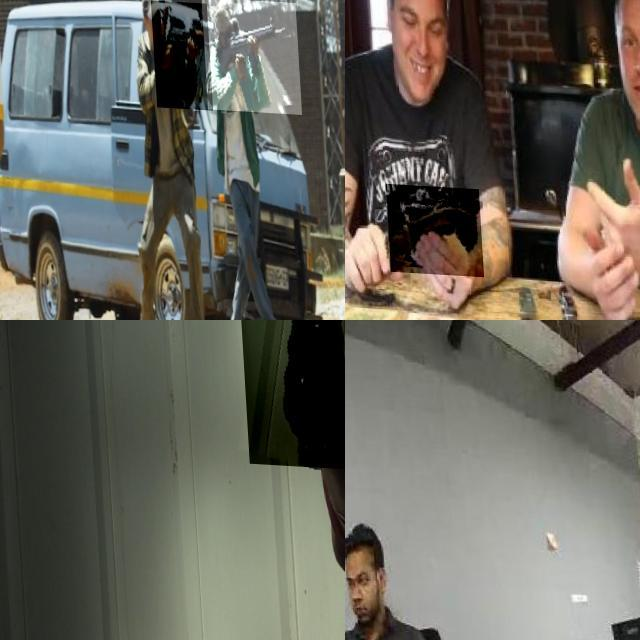-: (382, 182, 478, 274)
gun-knife-thesis - v11 Yolov5 augmented: (233, 320, 345, 465), (199, 0, 298, 110), (148, 0, 209, 107)
